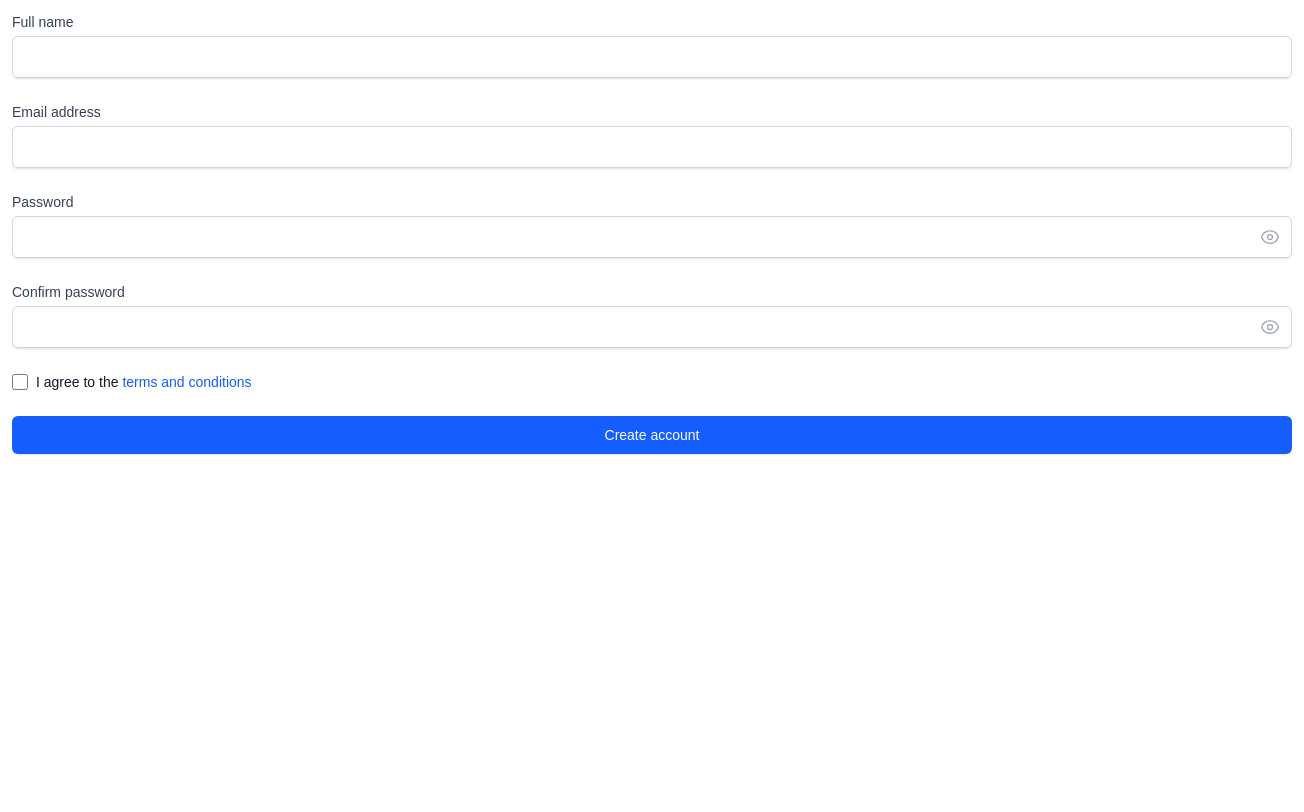
Test: RegisterForm › should validate email format
Type "invalid-email" into the field labelled "Email address" at (652,147), box [12,126,1292,168]
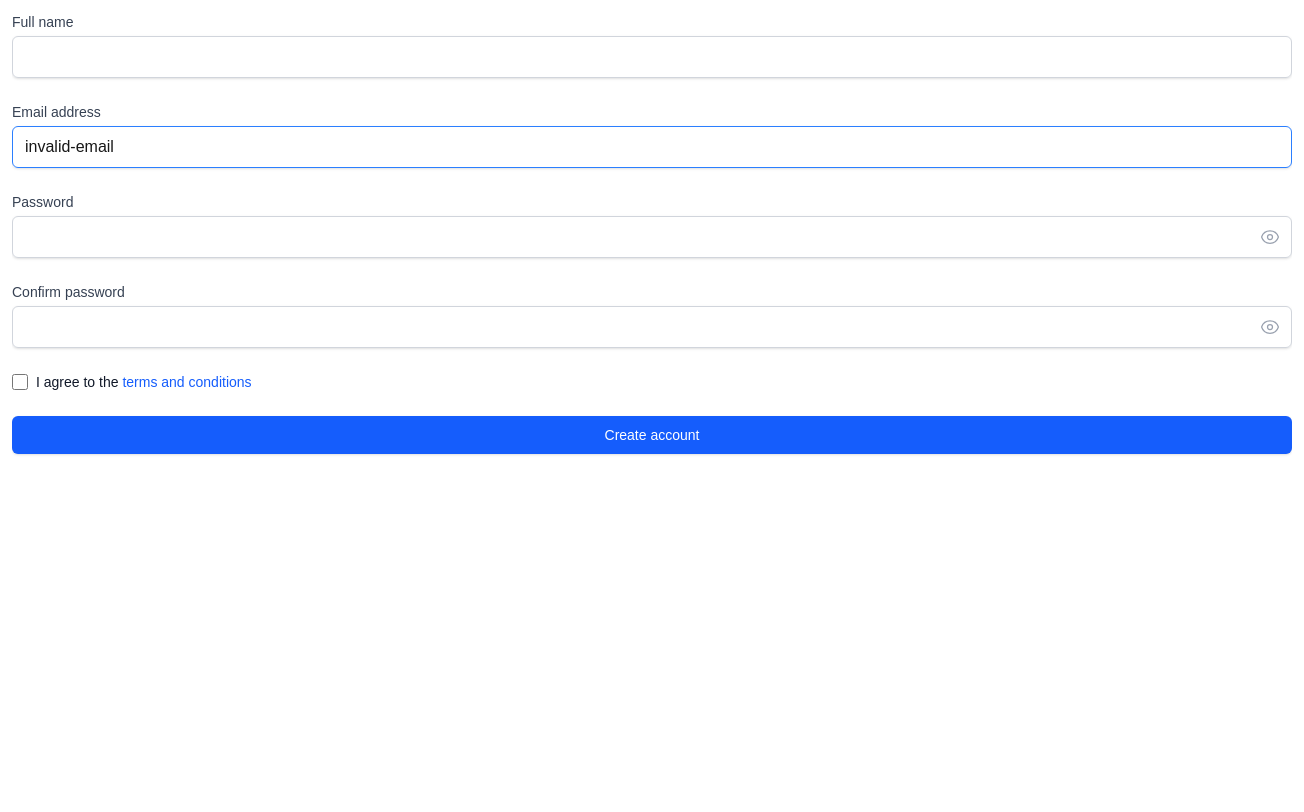
Click the button "Create account" at (652,435), box [12,416,1292,454]
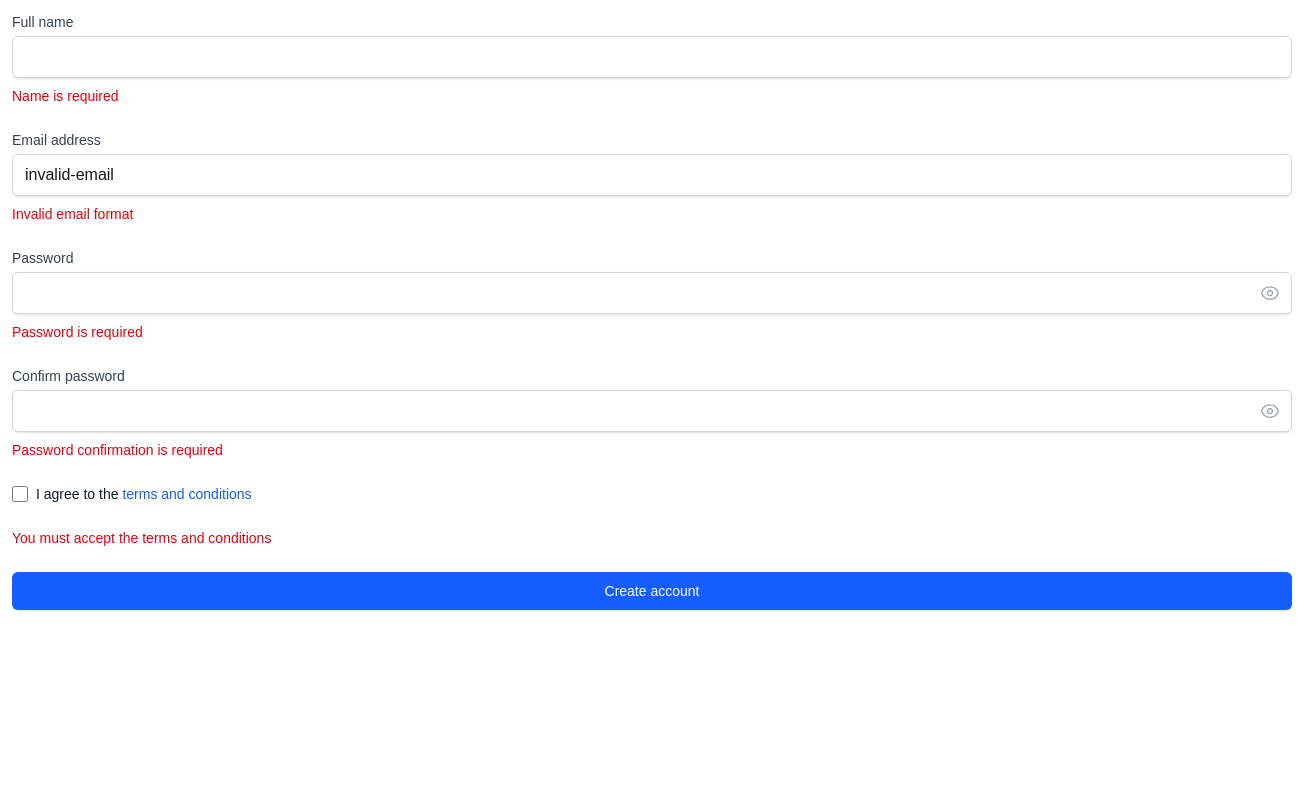
expect the text "Invalid email format" is shown: met, box [12,206,133,222]
